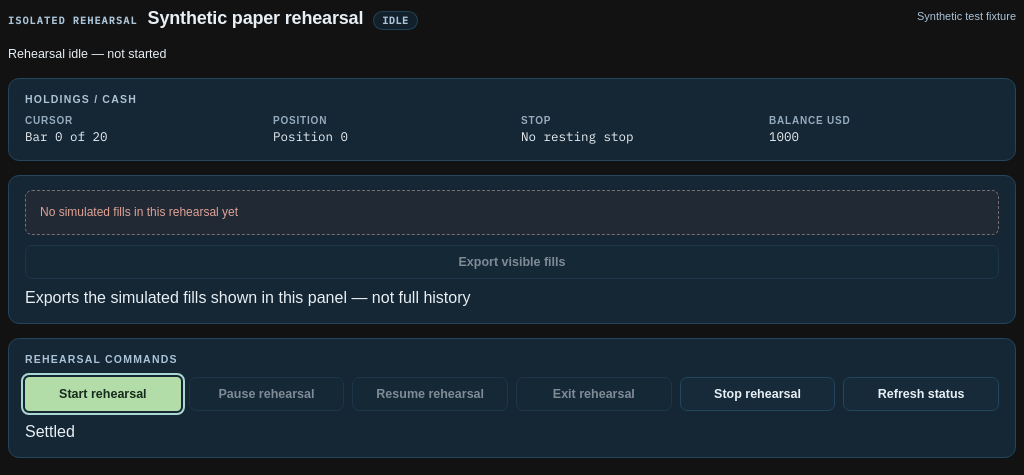
Test: rehearsal-commands-busy › signals start through settlement and permits later activation
Expected: the element with test id "rehearsal-holdings-panel" is shown, [8,78,1016,161]
Click the button with test id "rehearsal-command-start". click: [103, 394]
box: [25,377,181,411]
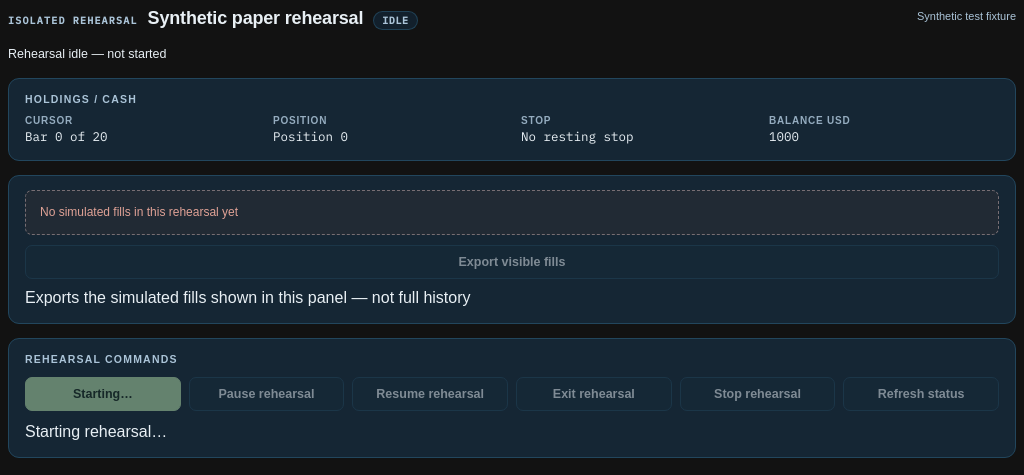
Result: the button with test id "rehearsal-command-start" is disabled
Result: the button with test id "rehearsal-command-start" reads "Starting…"
Result: the text with test id "rehearsal-commands-busy-status" reads "Starting rehearsal…" at [25,423,167,440]
Press the mouse on the button with test id "rehearsal-command-start" at [103, 394], box [25,377,181,411]
Press Enter in the button with test id "rehearsal-command-start", box [25,377,181,411]
Click the button with test id "rehearsal-command-start". click: [103, 394]
box: [25,377,181,411]
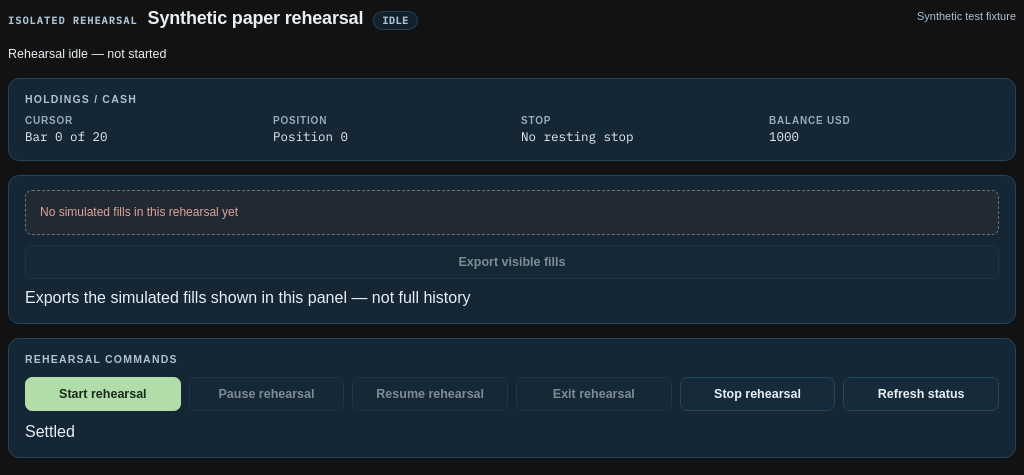
Result: the button with test id "rehearsal-command-start" reads "Start rehearsal"
Result: the text with test id "rehearsal-commands-busy-status" reads "Settled" at [25,423,75,440]
Result: the button with test id "rehearsal-command-start" is enabled
Click the button with test id "rehearsal-command-start". click: [103, 394]
box: [25,377,181,411]
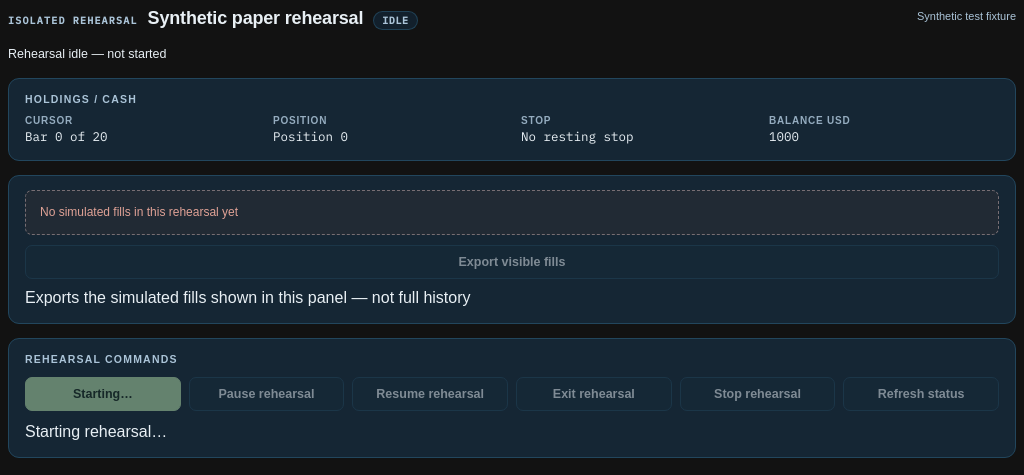
Result: the button with test id "rehearsal-command-start" is disabled
Result: the button with test id "rehearsal-command-start" reads "Starting…"
Result: the text with test id "rehearsal-commands-busy-status" reads "Starting rehearsal…" at [25,423,167,440]
Press the mouse on the button with test id "rehearsal-command-start" at [103, 394], box [25,377,181,411]
Press Enter in the button with test id "rehearsal-command-start", box [25,377,181,411]
Click the button with test id "rehearsal-command-start". click: [103, 394]
box: [25,377,181,411]
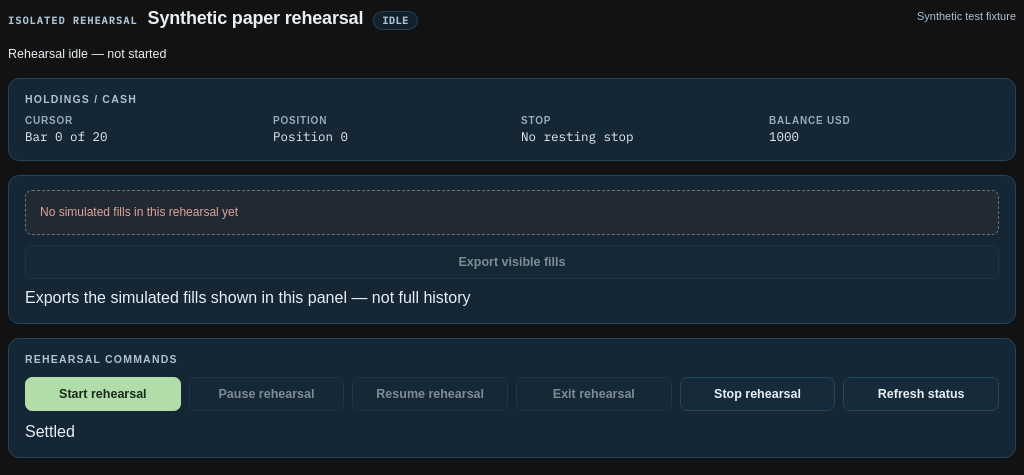
Result: the button with test id "rehearsal-command-start" reads "Start rehearsal" at [25,377,181,411]
Result: the text with test id "rehearsal-commands-busy-status" reads "Settled" at [25,423,75,440]
